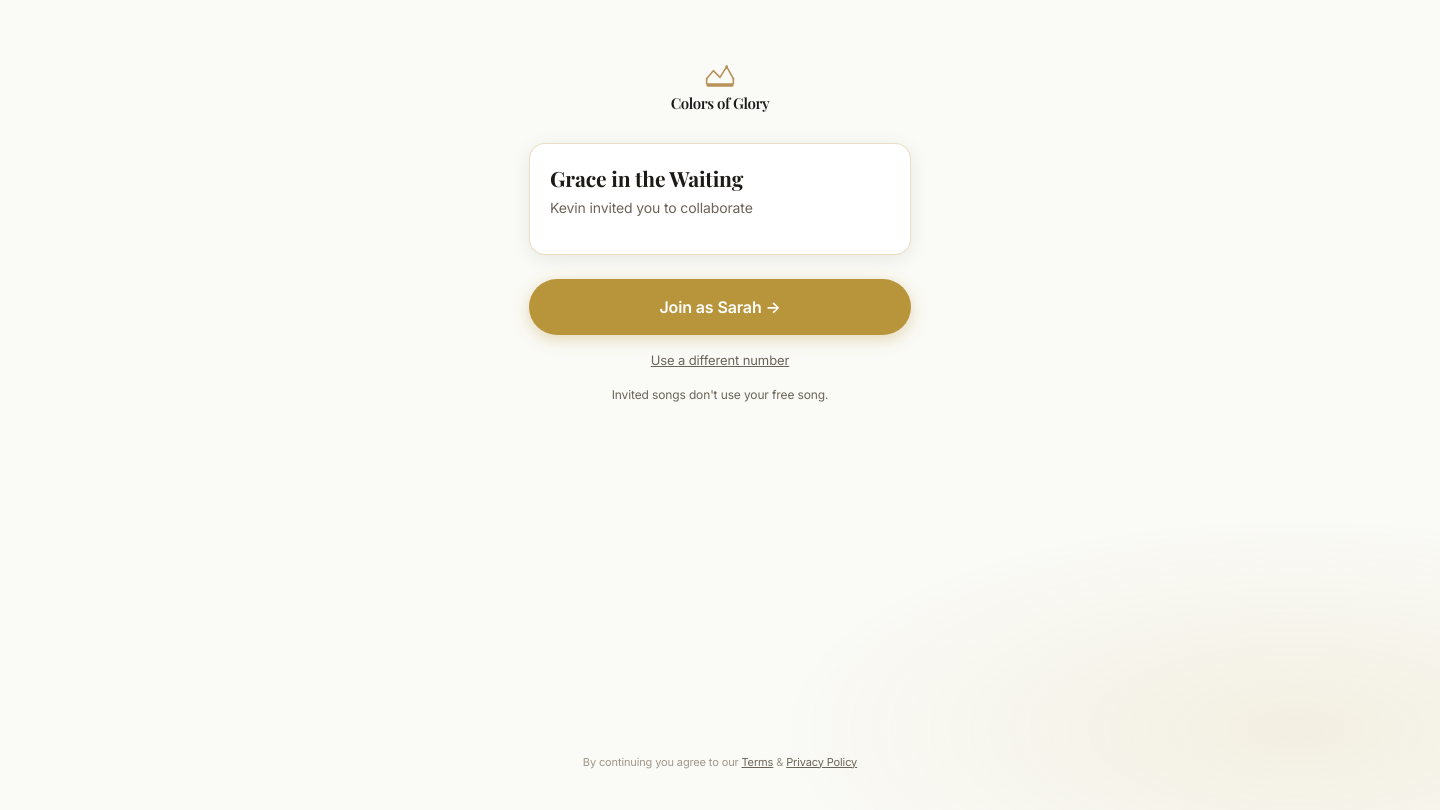
InviteJoinPage — signed-in one-tap join › lets a signed-in user fall back to a different number
Click the button "Use a different number".
click(720, 361)  # box [529, 335, 911, 386]
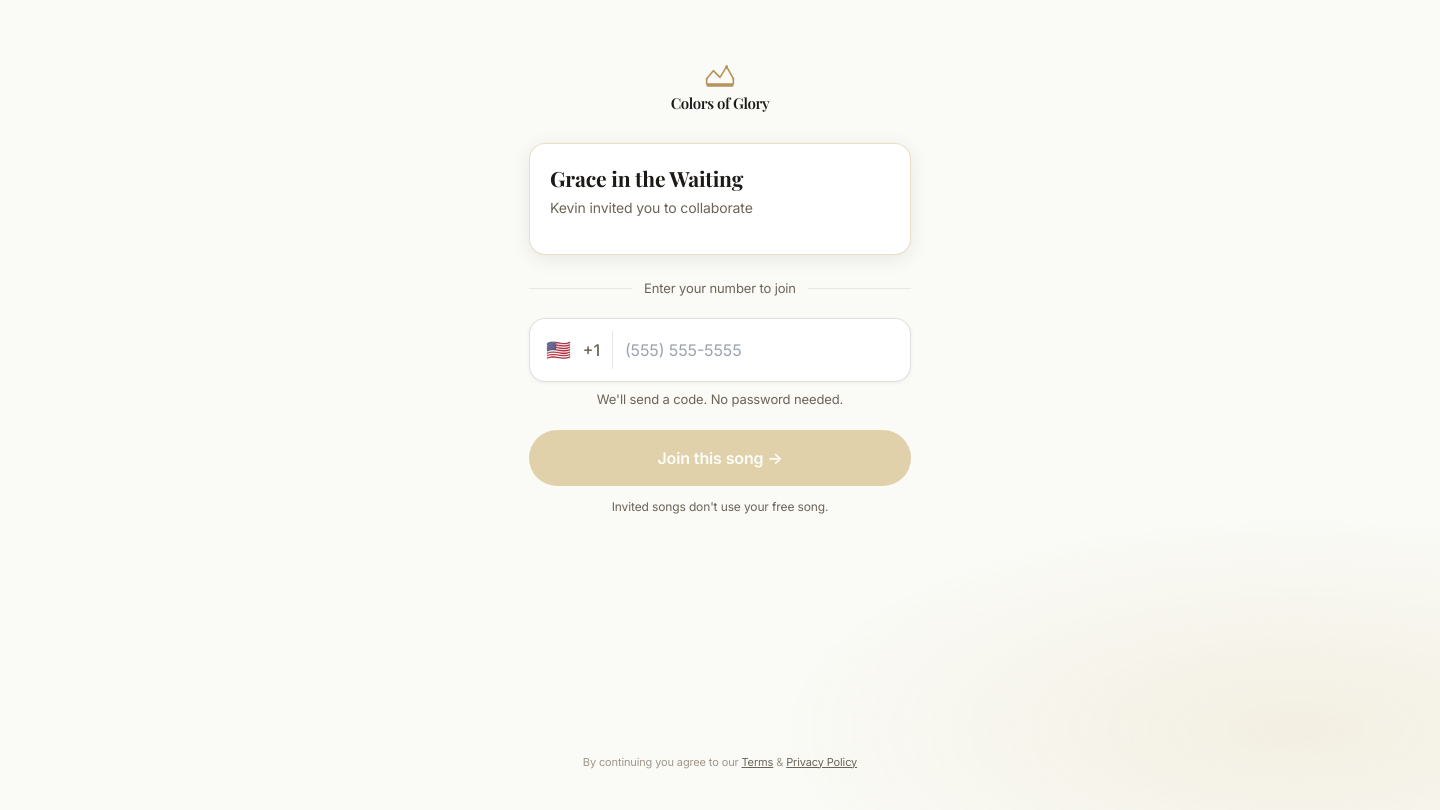
Now the field named "Phone number" is shown, box [625, 338, 894, 362]
